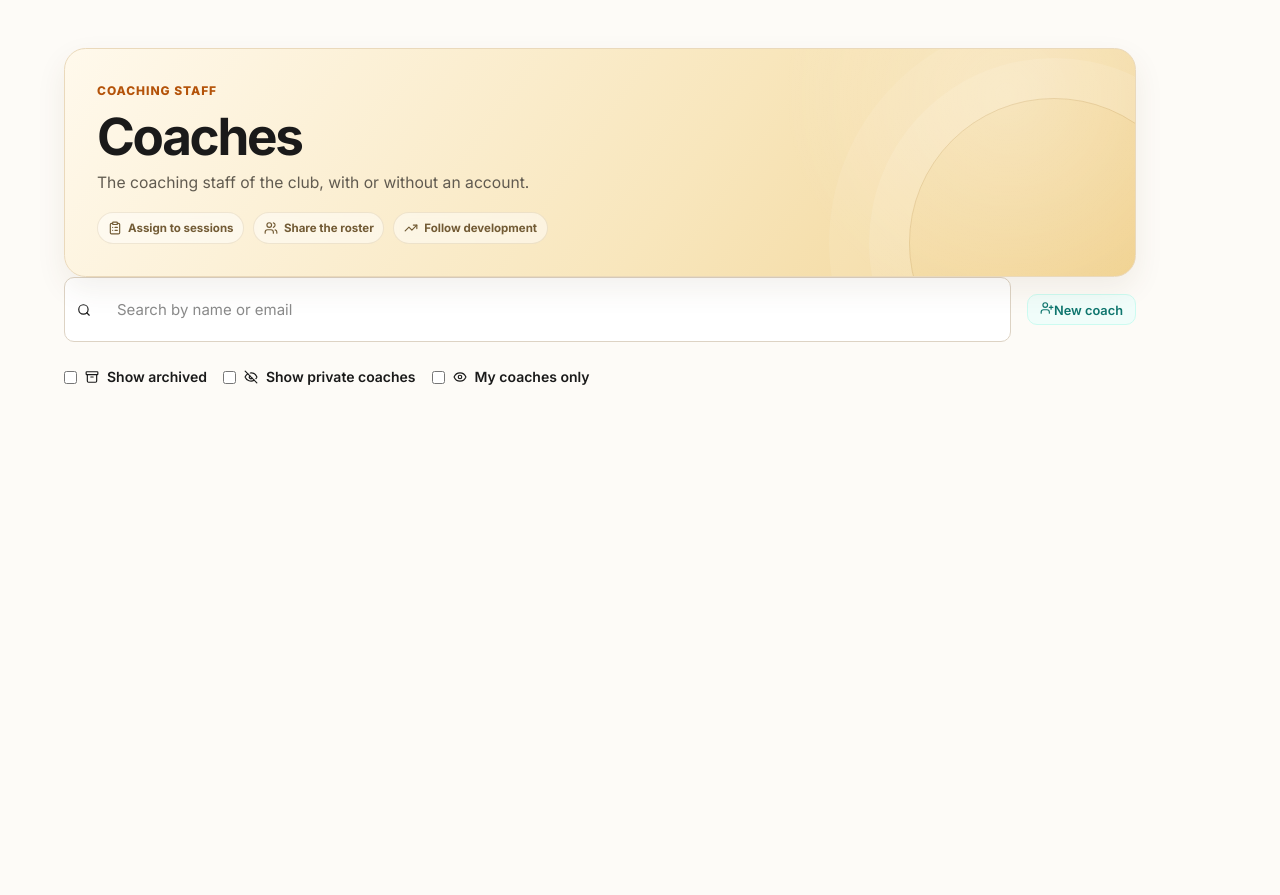
Test: Coaches › records an accountless coach with their profile fields
Click the button "New coach": coordinates (1081, 310) 1027,294 -> 1136,325
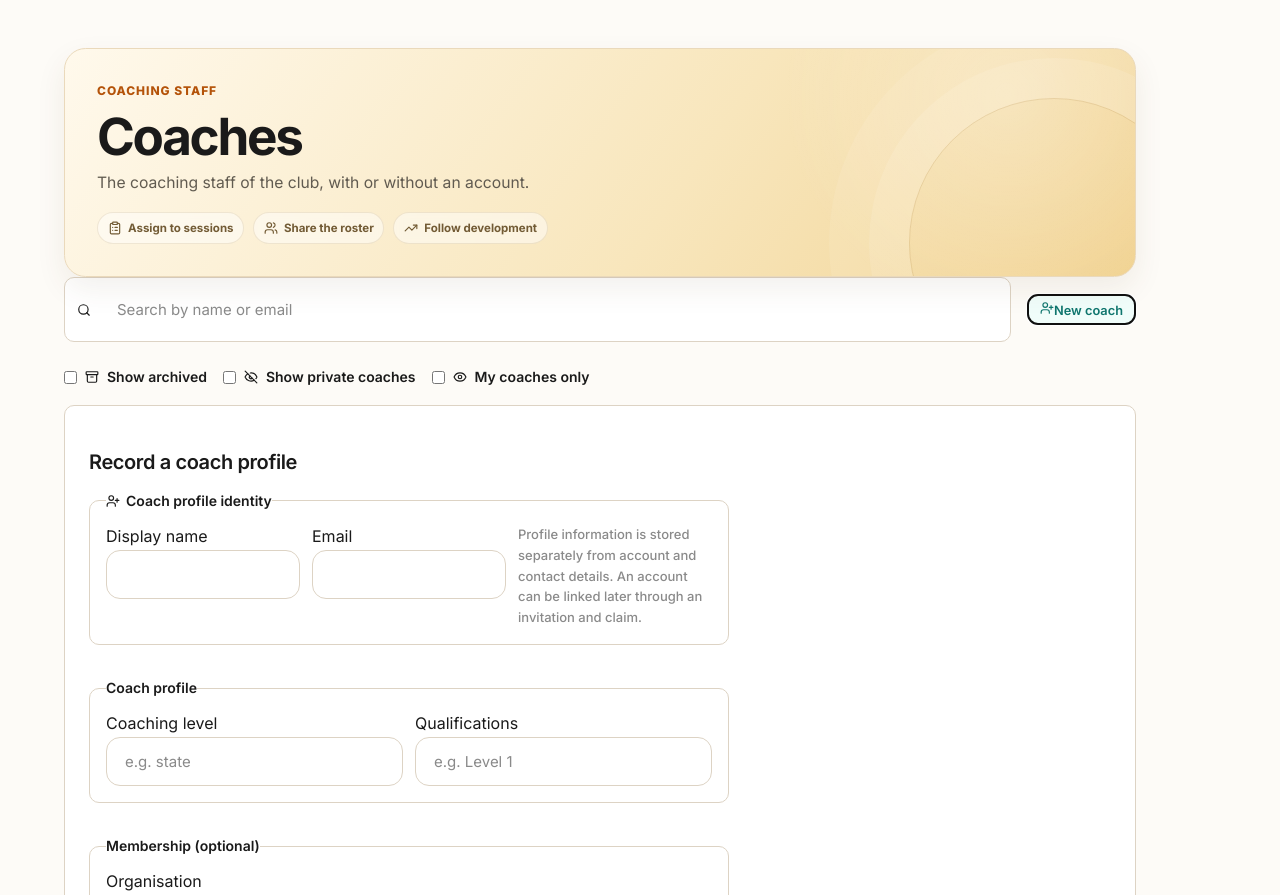
In the field labelled "Display name": coordinates (203, 574) 106,550 -> 300,598, type "New Coach"
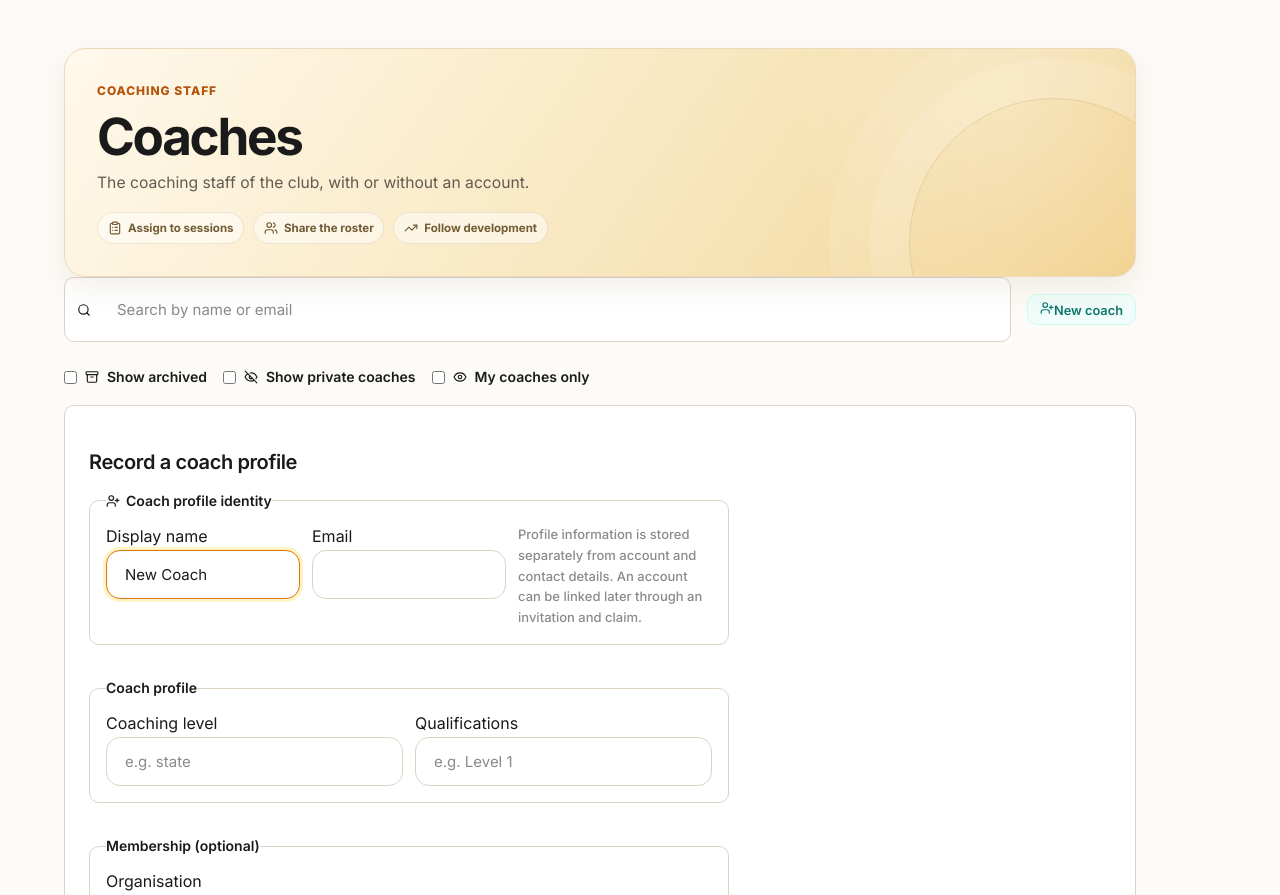
In the field labelled "Coaching level": coordinates (254, 761) 106,737 -> 403,786, type "national"
(page scrolled)
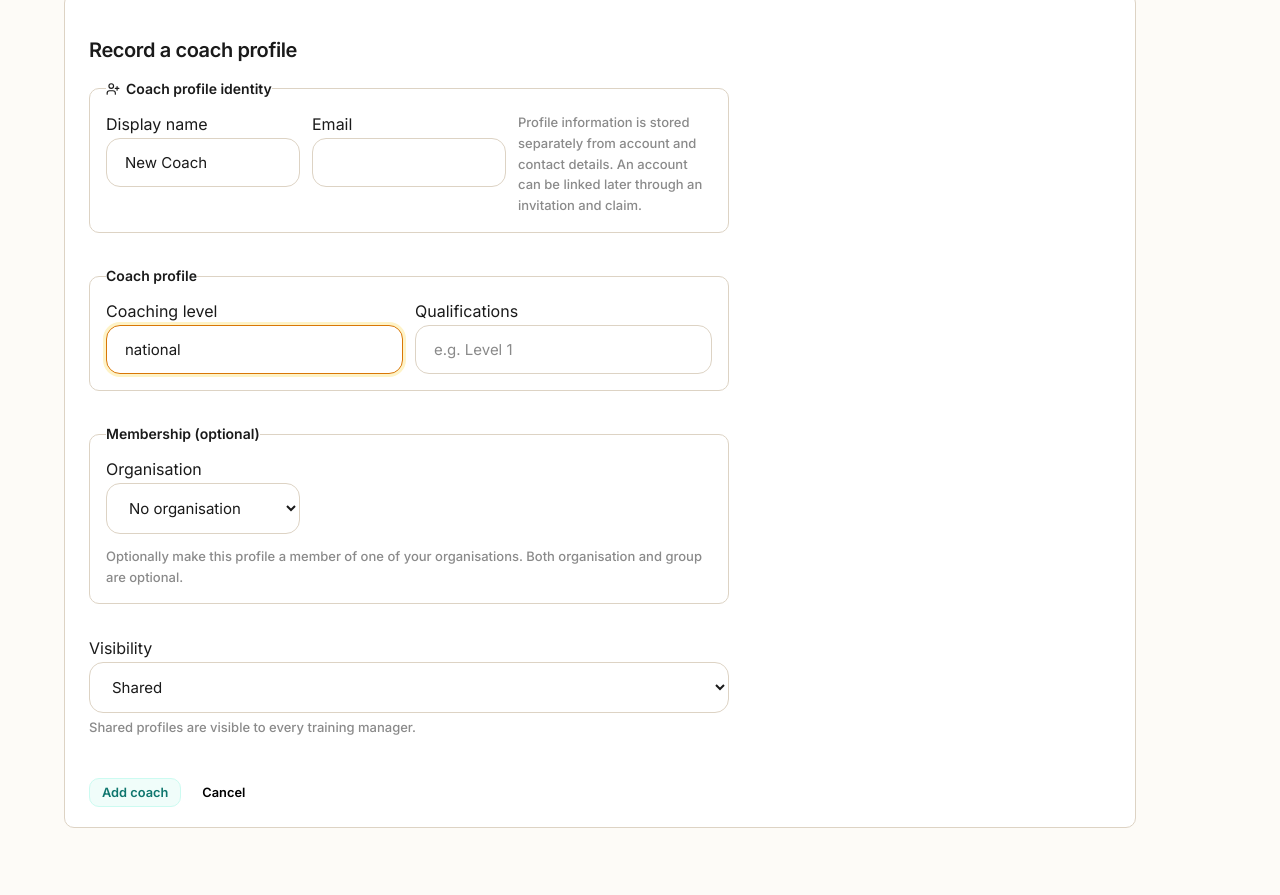
Click the button "Add coach": coordinates (135, 792) 89,778 -> 181,807
(page scrolled)
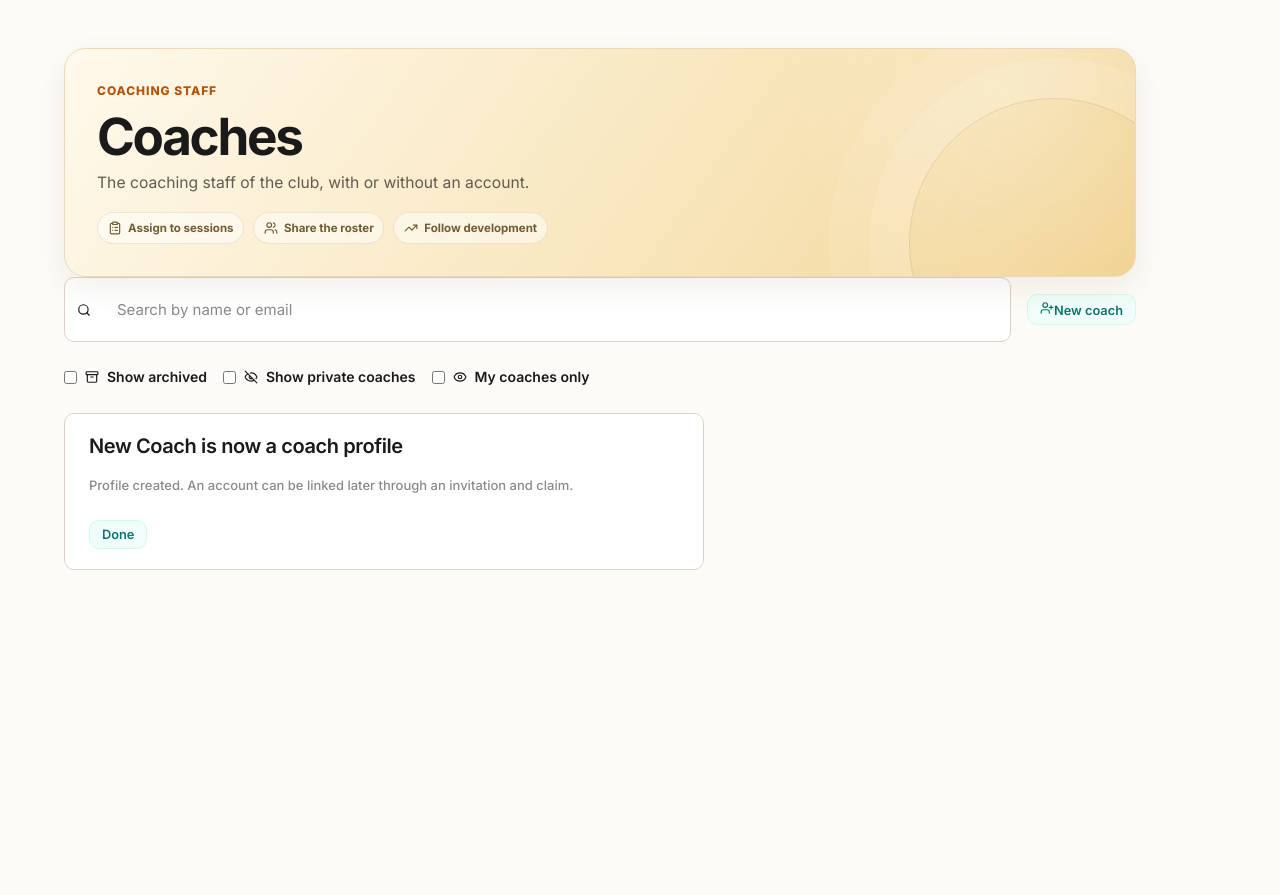
Now the heading "New Coach is now a coach profile" is shown, box 89,434 -> 403,458
